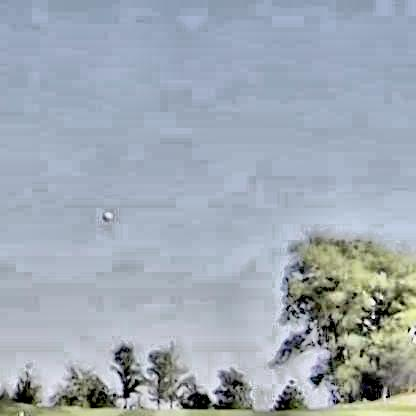golfball: (99, 207, 110, 219)
